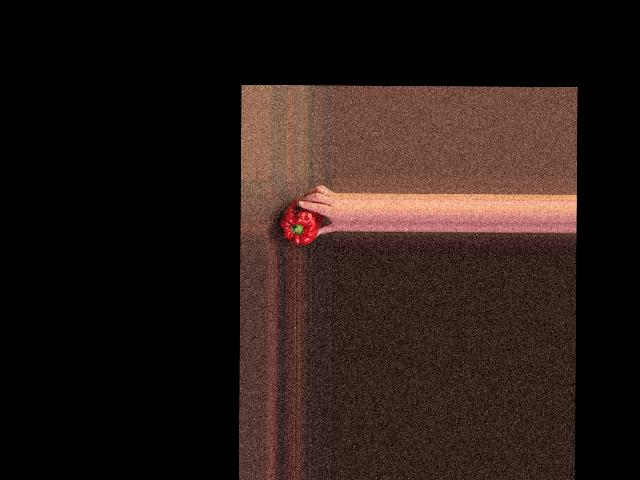bell_pepper: (279, 202, 321, 246)
